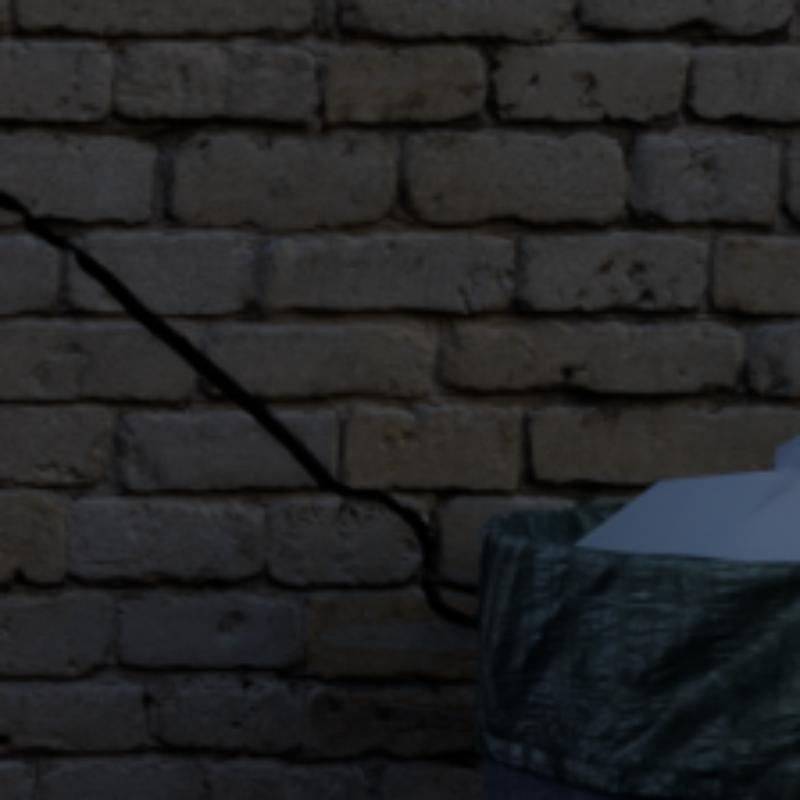pothole: (0, 193, 475, 629)
